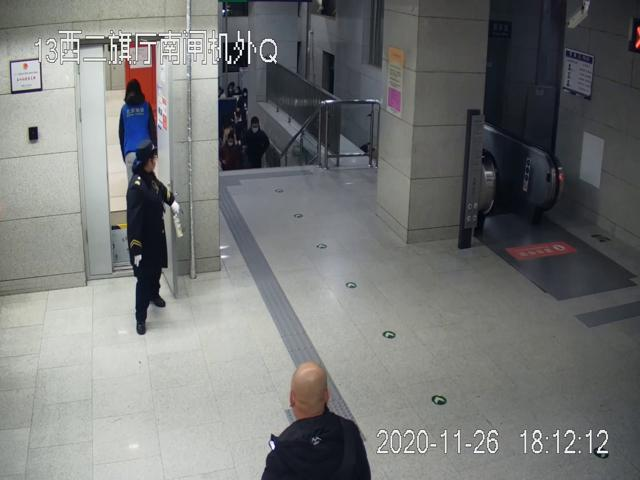person: (126, 140, 176, 335)
